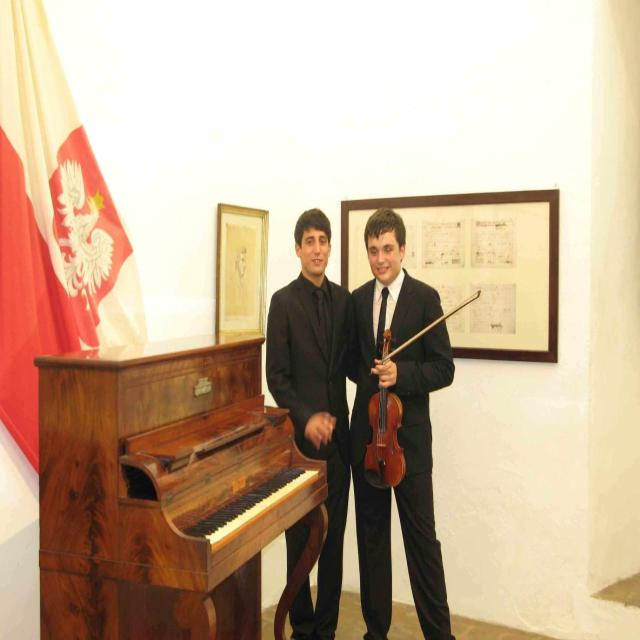violin: (362, 326, 408, 492)
